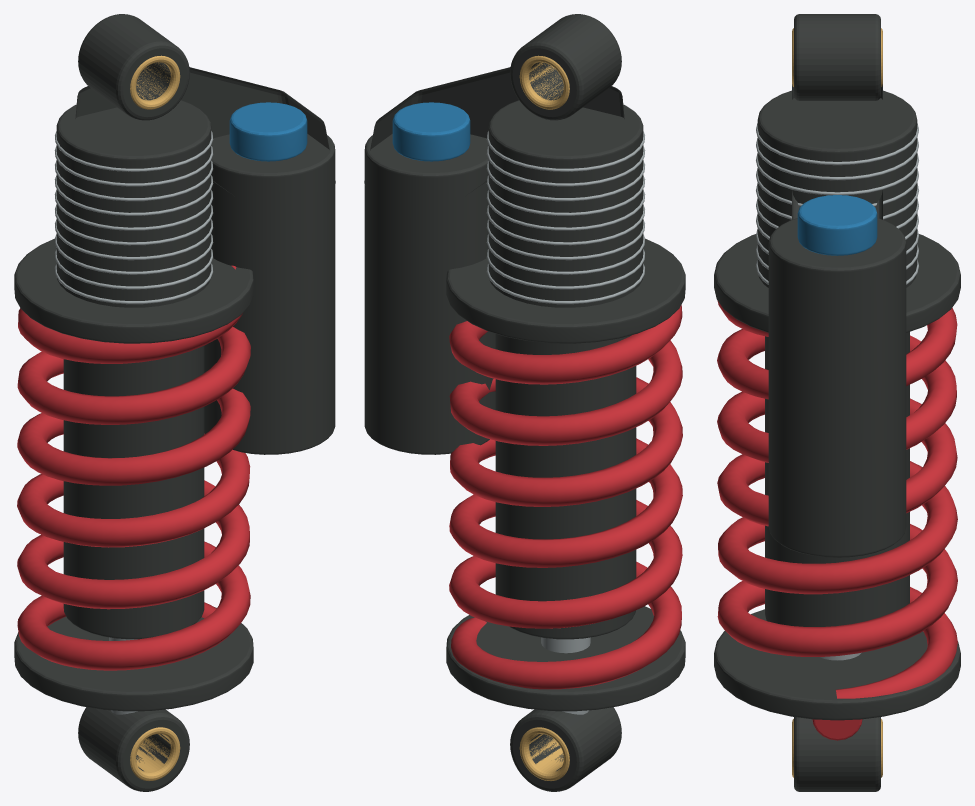
Rendered from rockshox-vivid-coil-ultimate-d1--21b5b396.glb.
The picture shows the model from 3 angles, left to right: view 1: azimuth 30°, elevation 25°; view 2: azimuth 150°, elevation 25°; view 3: azimuth 270°, elevation 25°; orthographic projection. The views are drawn at different scales.
Visible parts, largest first — view 1: rockshox-vivid-coil-ultimate-d1--21b5b396__link, rockshox-vivid-coil-ultimate-d1--21b5b396__rebound, rockshox-vivid-coil-ultimate-d1--21b5b396__bolts, rockshox-vivid-coil-ultimate-d1--21b5b396__adjuster, rockshox-vivid-coil-ultimate-d1--21b5b396__stanchions; view 2: rockshox-vivid-coil-ultimate-d1--21b5b396__link, rockshox-vivid-coil-ultimate-d1--21b5b396__rebound, rockshox-vivid-coil-ultimate-d1--21b5b396__bolts, rockshox-vivid-coil-ultimate-d1--21b5b396__adjuster, rockshox-vivid-coil-ultimate-d1--21b5b396__stanchions; view 3: rockshox-vivid-coil-ultimate-d1--21b5b396__link, rockshox-vivid-coil-ultimate-d1--21b5b396__rebound, rockshox-vivid-coil-ultimate-d1--21b5b396__adjuster, rockshox-vivid-coil-ultimate-d1--21b5b396__bolts, rockshox-vivid-coil-ultimate-d1--21b5b396__stanchions.
Part boxes in pixels (<box>): rockshox-vivid-coil-ultimate-d1--21b5b396__link: <box>14,14,335,791</box>; rockshox-vivid-coil-ultimate-d1--21b5b396__rebound: <box>17,265,250,670</box>; rockshox-vivid-coil-ultimate-d1--21b5b396__bolts: <box>54,131,213,714</box>; rockshox-vivid-coil-ultimate-d1--21b5b396__adjuster: <box>229,102,307,161</box>; rockshox-vivid-coil-ultimate-d1--21b5b396__stanchions: <box>130,55,180,780</box>; rockshox-vivid-coil-ultimate-d1--21b5b396__link: <box>364,14,685,791</box>; rockshox-vivid-coil-ultimate-d1--21b5b396__rebound: <box>449,305,682,689</box>; rockshox-vivid-coil-ultimate-d1--21b5b396__bolts: <box>486,131,645,714</box>; rockshox-vivid-coil-ultimate-d1--21b5b396__adjuster: <box>392,102,470,161</box>; rockshox-vivid-coil-ultimate-d1--21b5b396__stanchions: <box>519,55,569,780</box>; rockshox-vivid-coil-ultimate-d1--21b5b396__link: <box>714,14,960,791</box>; rockshox-vivid-coil-ultimate-d1--21b5b396__rebound: <box>717,301,957,740</box>; rockshox-vivid-coil-ultimate-d1--21b5b396__adjuster: <box>797,195,877,255</box>; rockshox-vivid-coil-ultimate-d1--21b5b396__bolts: <box>756,123,918,660</box>; rockshox-vivid-coil-ultimate-d1--21b5b396__stanchions: <box>792,28,882,777</box>.
Size of the model in its own units: 0.097 by 0.234 by 0.068.
